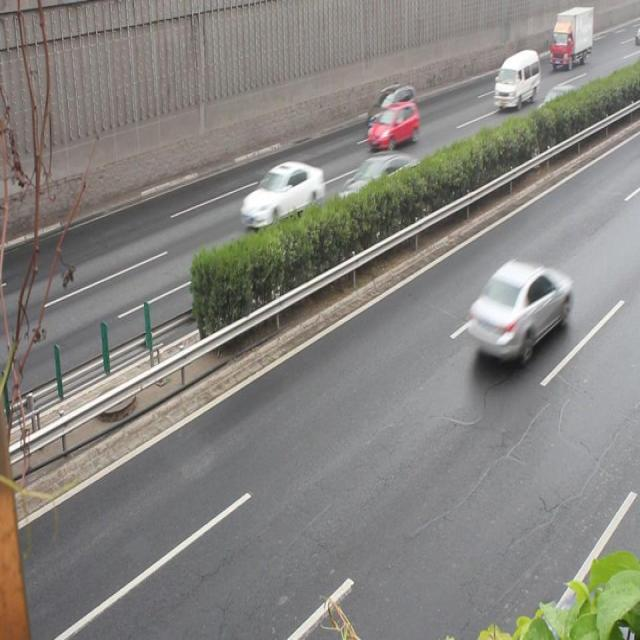car: (470, 258, 573, 360), (334, 152, 426, 230), (240, 159, 325, 230), (530, 84, 584, 138), (365, 83, 417, 134), (365, 100, 417, 150)
truck: (493, 48, 538, 106)
